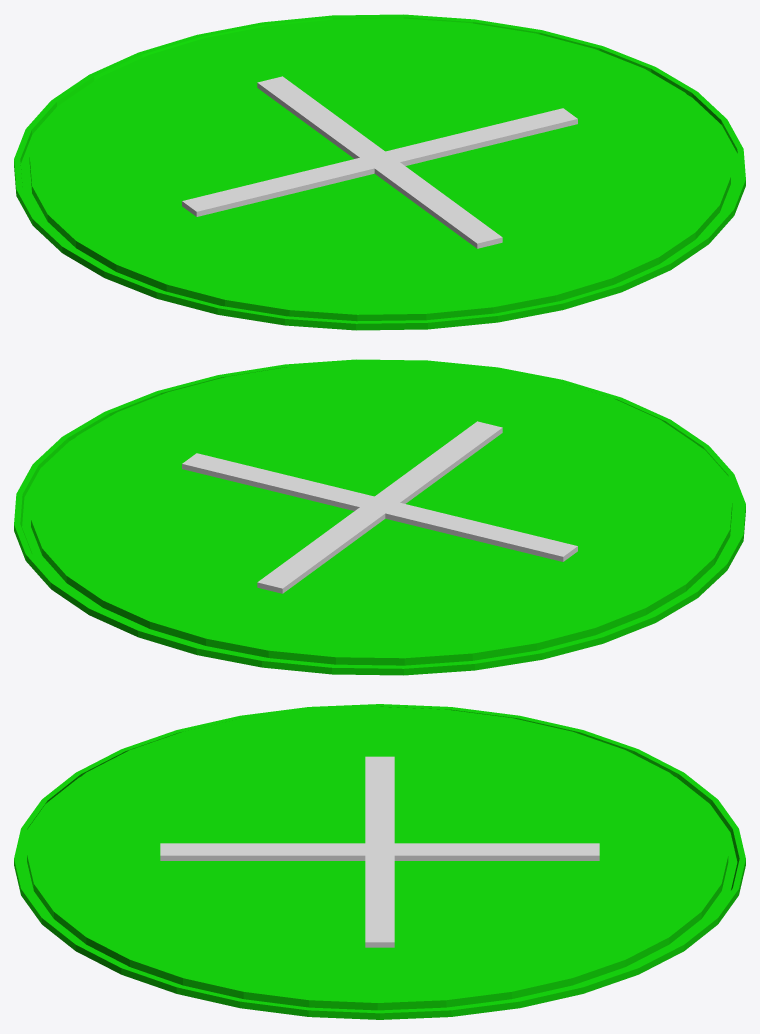
Rendered from Hit.fbx.
3 views of the same model, one above another, from view 1: azimuth 30°, elevation 25°; view 2: azimuth 150°, elevation 25°; view 3: azimuth 270°, elevation 25° (orthographic).
Parts seen in each view (by area): view 1: Cylinder; view 2: Cylinder; view 3: Cylinder.
Part boxes in pixels (box(x1,y1,x2,y2)): Cylinder: box(14, 14, 745, 330); Cylinder: box(14, 359, 745, 675); Cylinder: box(14, 704, 745, 1019).
Size of the model in its own units: 200 by 4.76 by 200.
